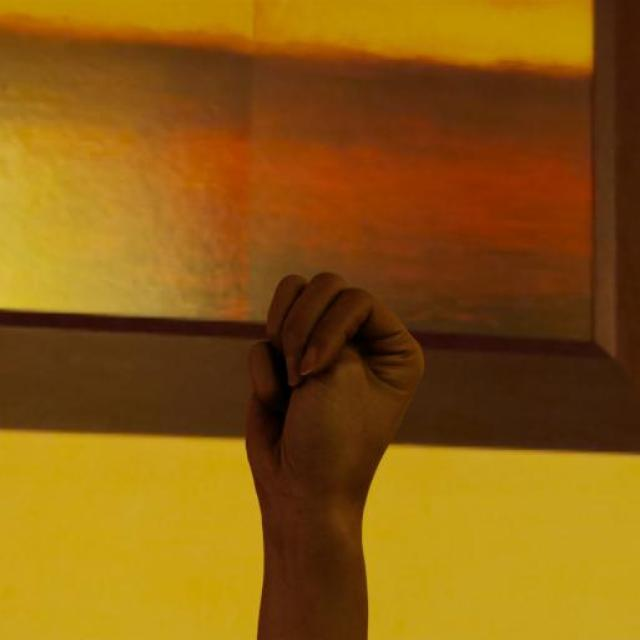M: (234, 266, 427, 510)
